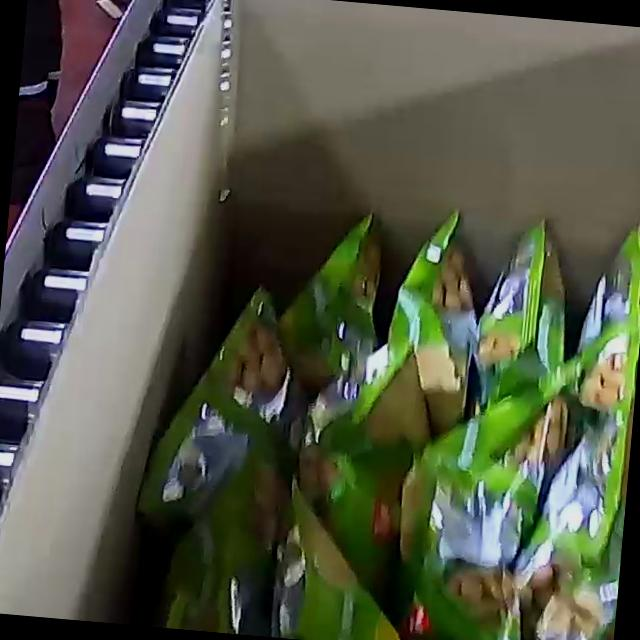yogurt: (120, 175, 640, 640)
